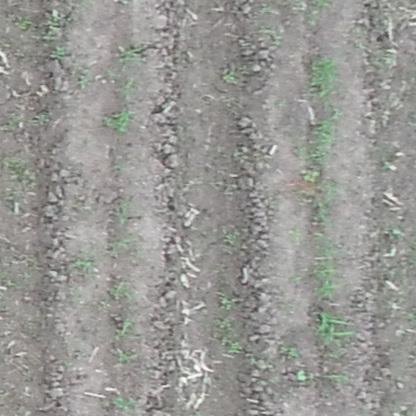corn: (318, 308, 358, 341), (310, 52, 333, 96)
vc: (305, 167, 319, 181), (296, 368, 309, 383)
